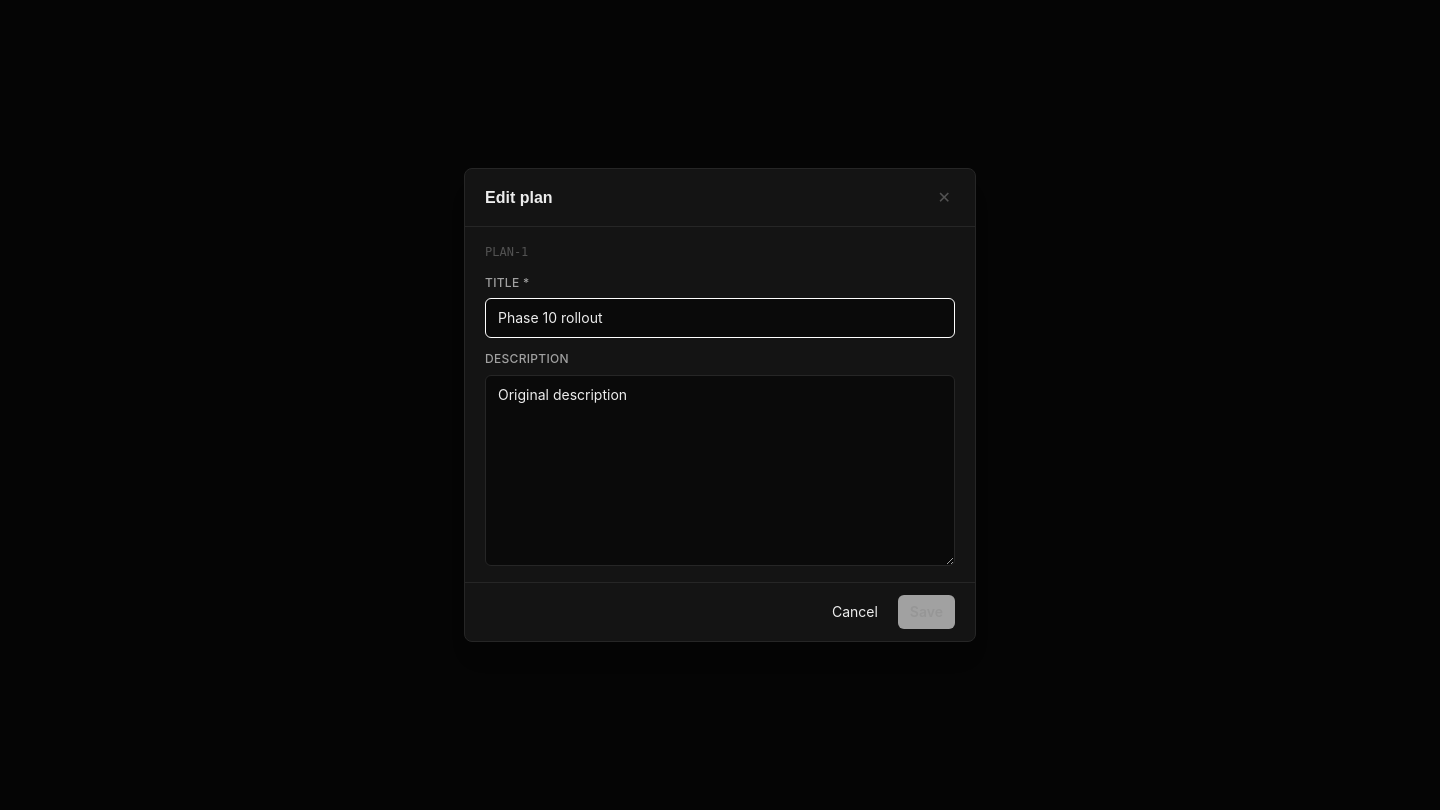
Test: PlanEditModal › surfaces daemon errors
Replace the text in the field with test id "plan-edit-title" with "x" at (720, 318), box [485, 298, 955, 338]
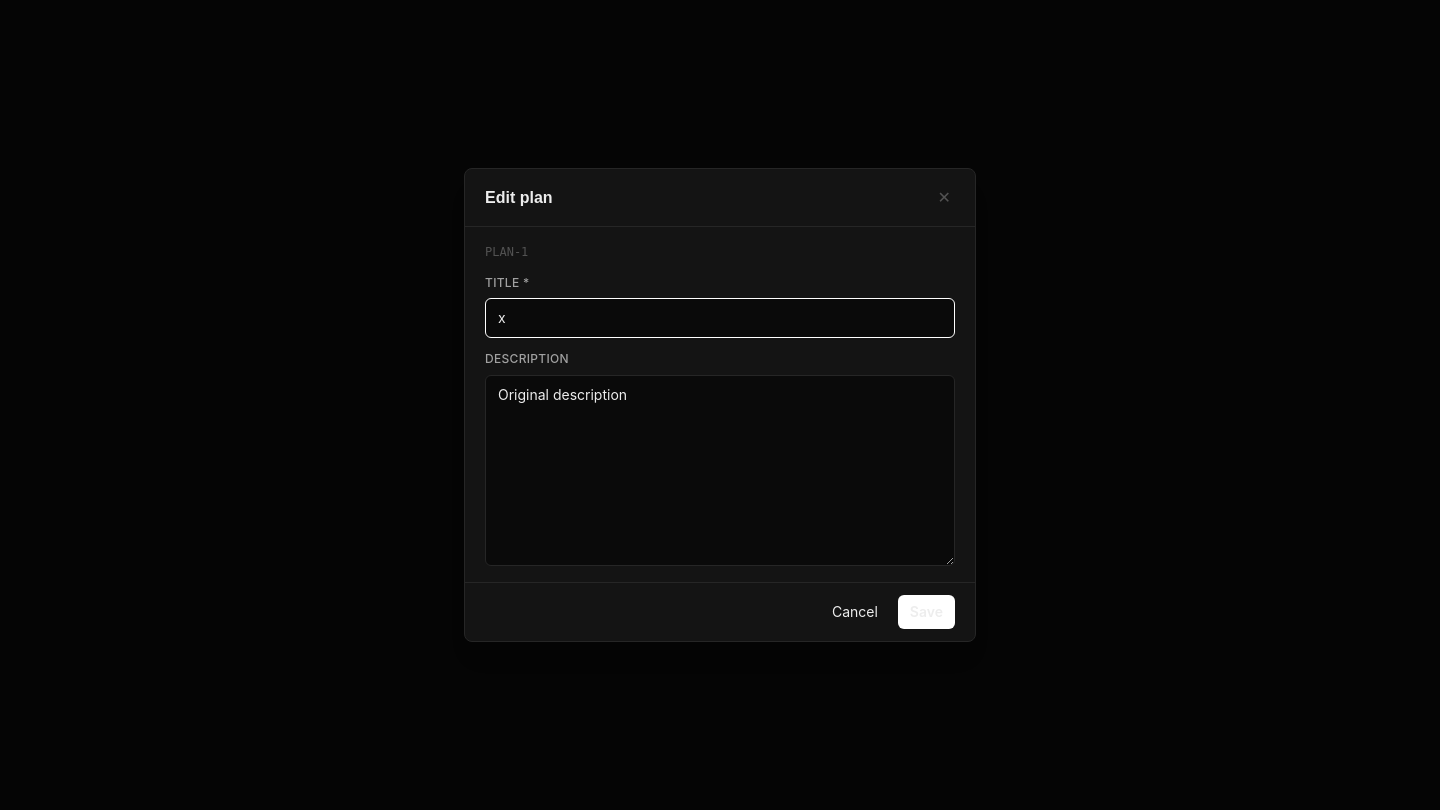
Click the button with test id "plan-edit-submit".
click(926, 612)  # box [898, 595, 955, 629]
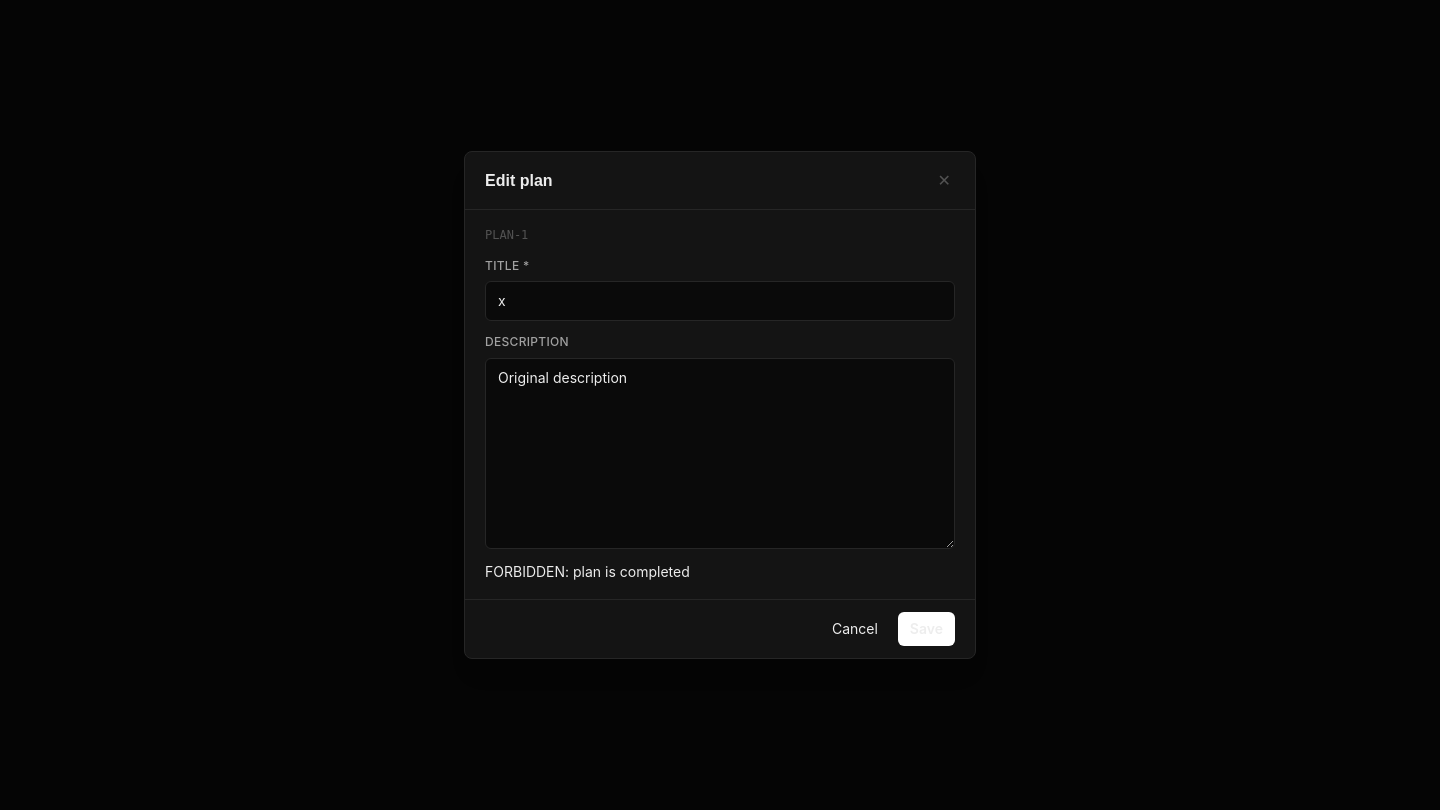
expect the message with test id "plan-edit-error" reads "FORBIDDEN: plan is completed": met, box [485, 563, 690, 580]
